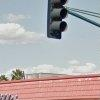Traffic light: (41, 0, 67, 43)
